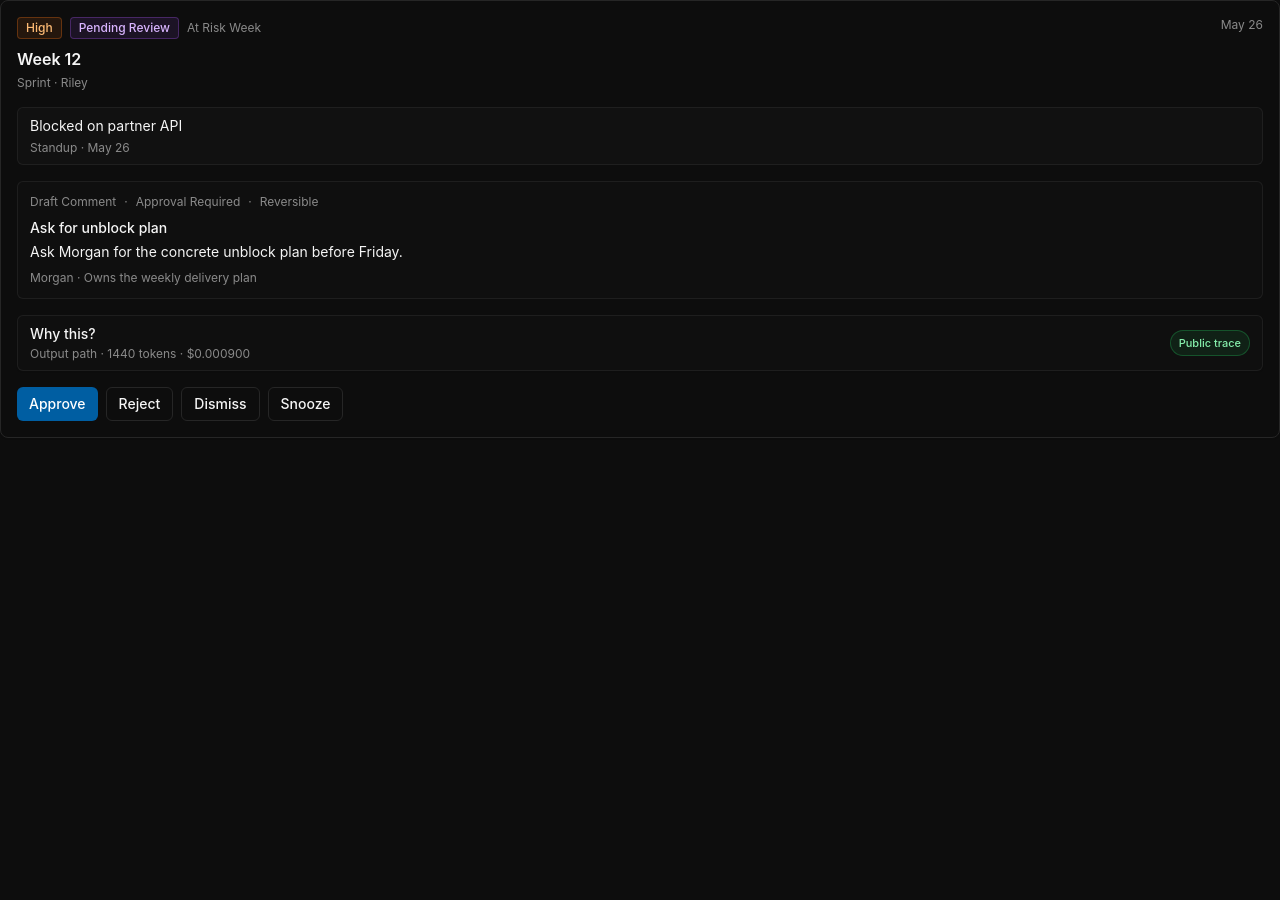
FindingCard › shows why the finding exists and links its trace when run metadata is available
Click the button "Why this?" at coordinates (63, 334), box [30,324,1250,362]
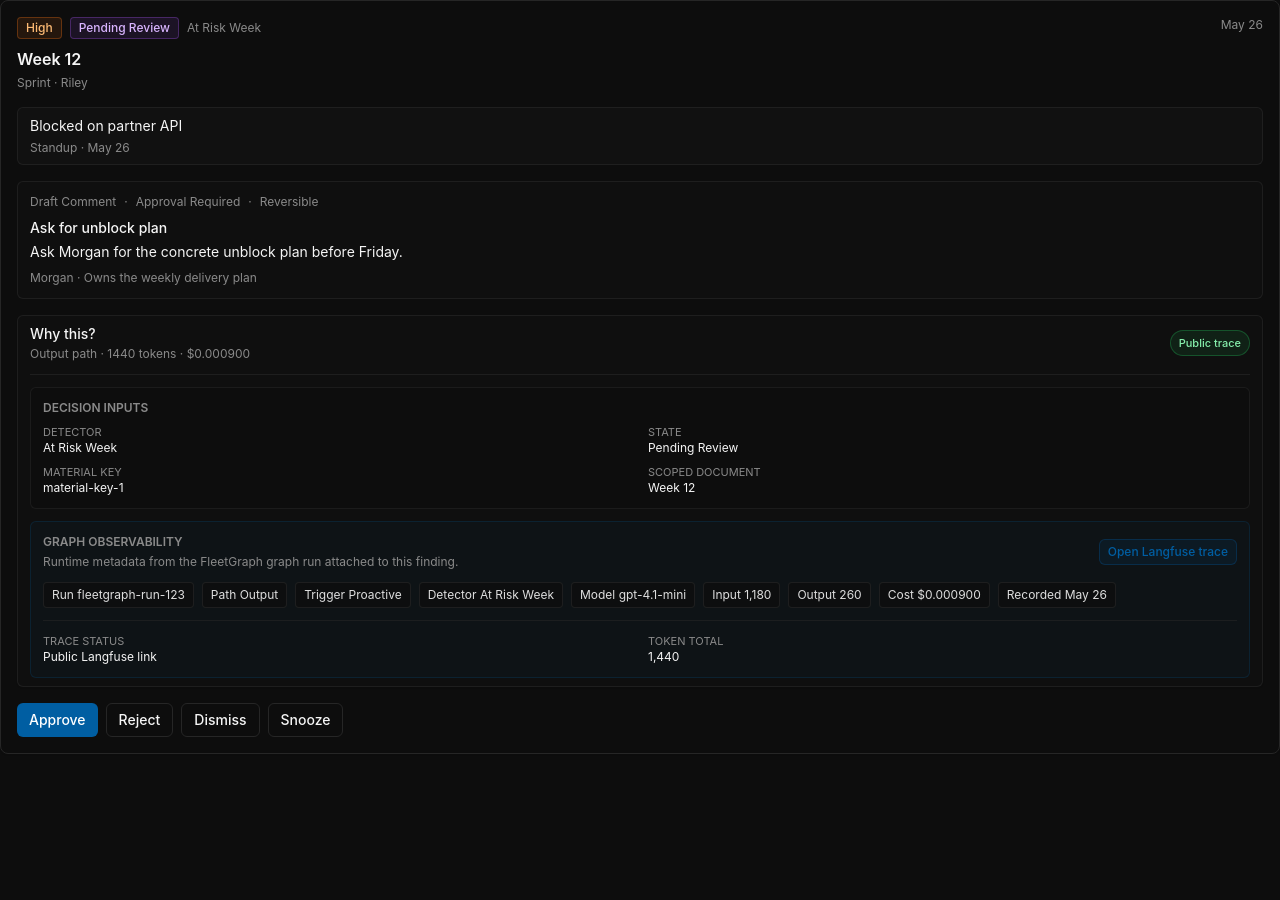
Expected: the text "Graph observability" is shown, [43,534,183,549]
Expected: the text "Run fleetgraph-run-123" is shown, [43,582,194,608]
Expected: the text "Path Output" is shown, [202,582,287,608]
